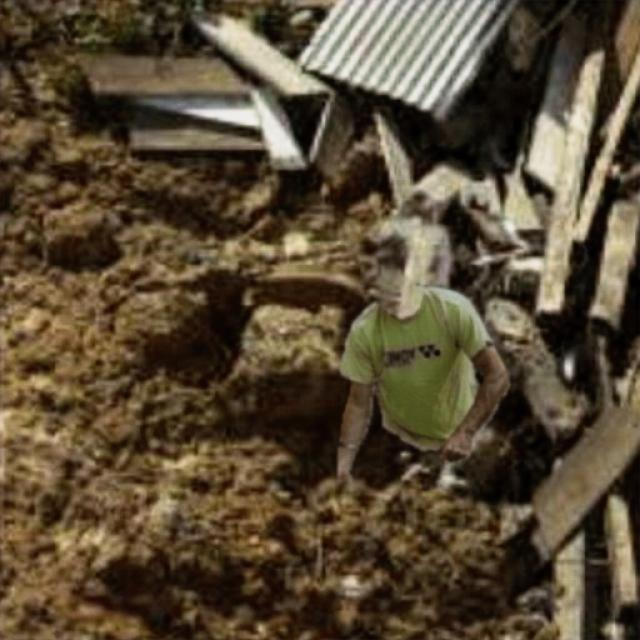Person in Rubble: (338, 284, 508, 482)
